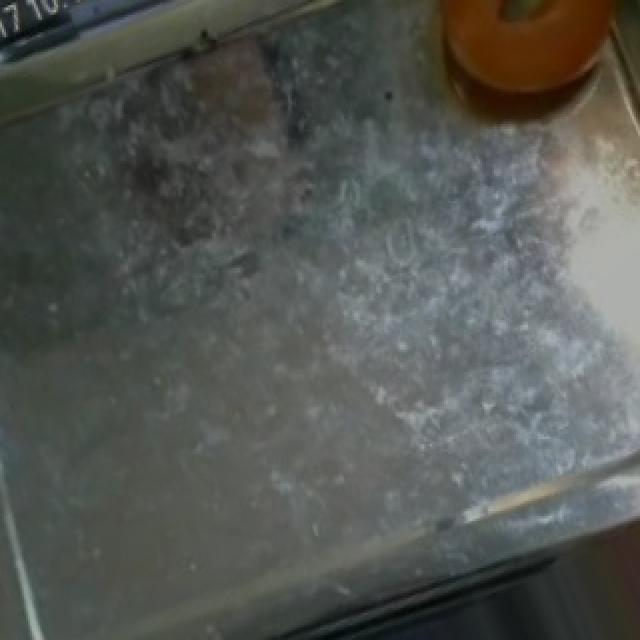Fruit: (400, 0, 640, 136)
